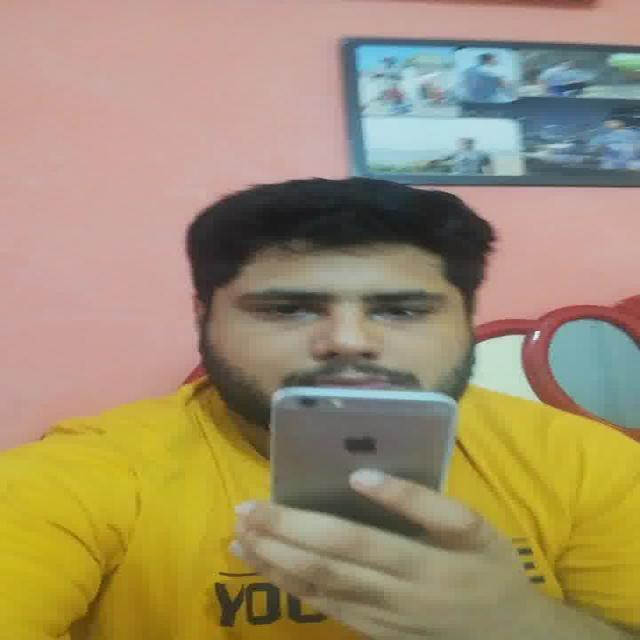Phone: (271, 386, 455, 506)
